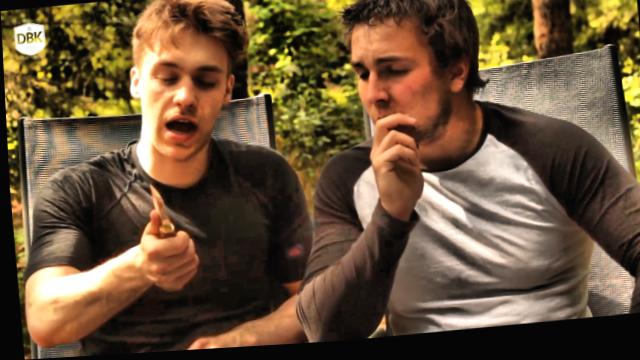knife: (117, 174, 202, 280)
